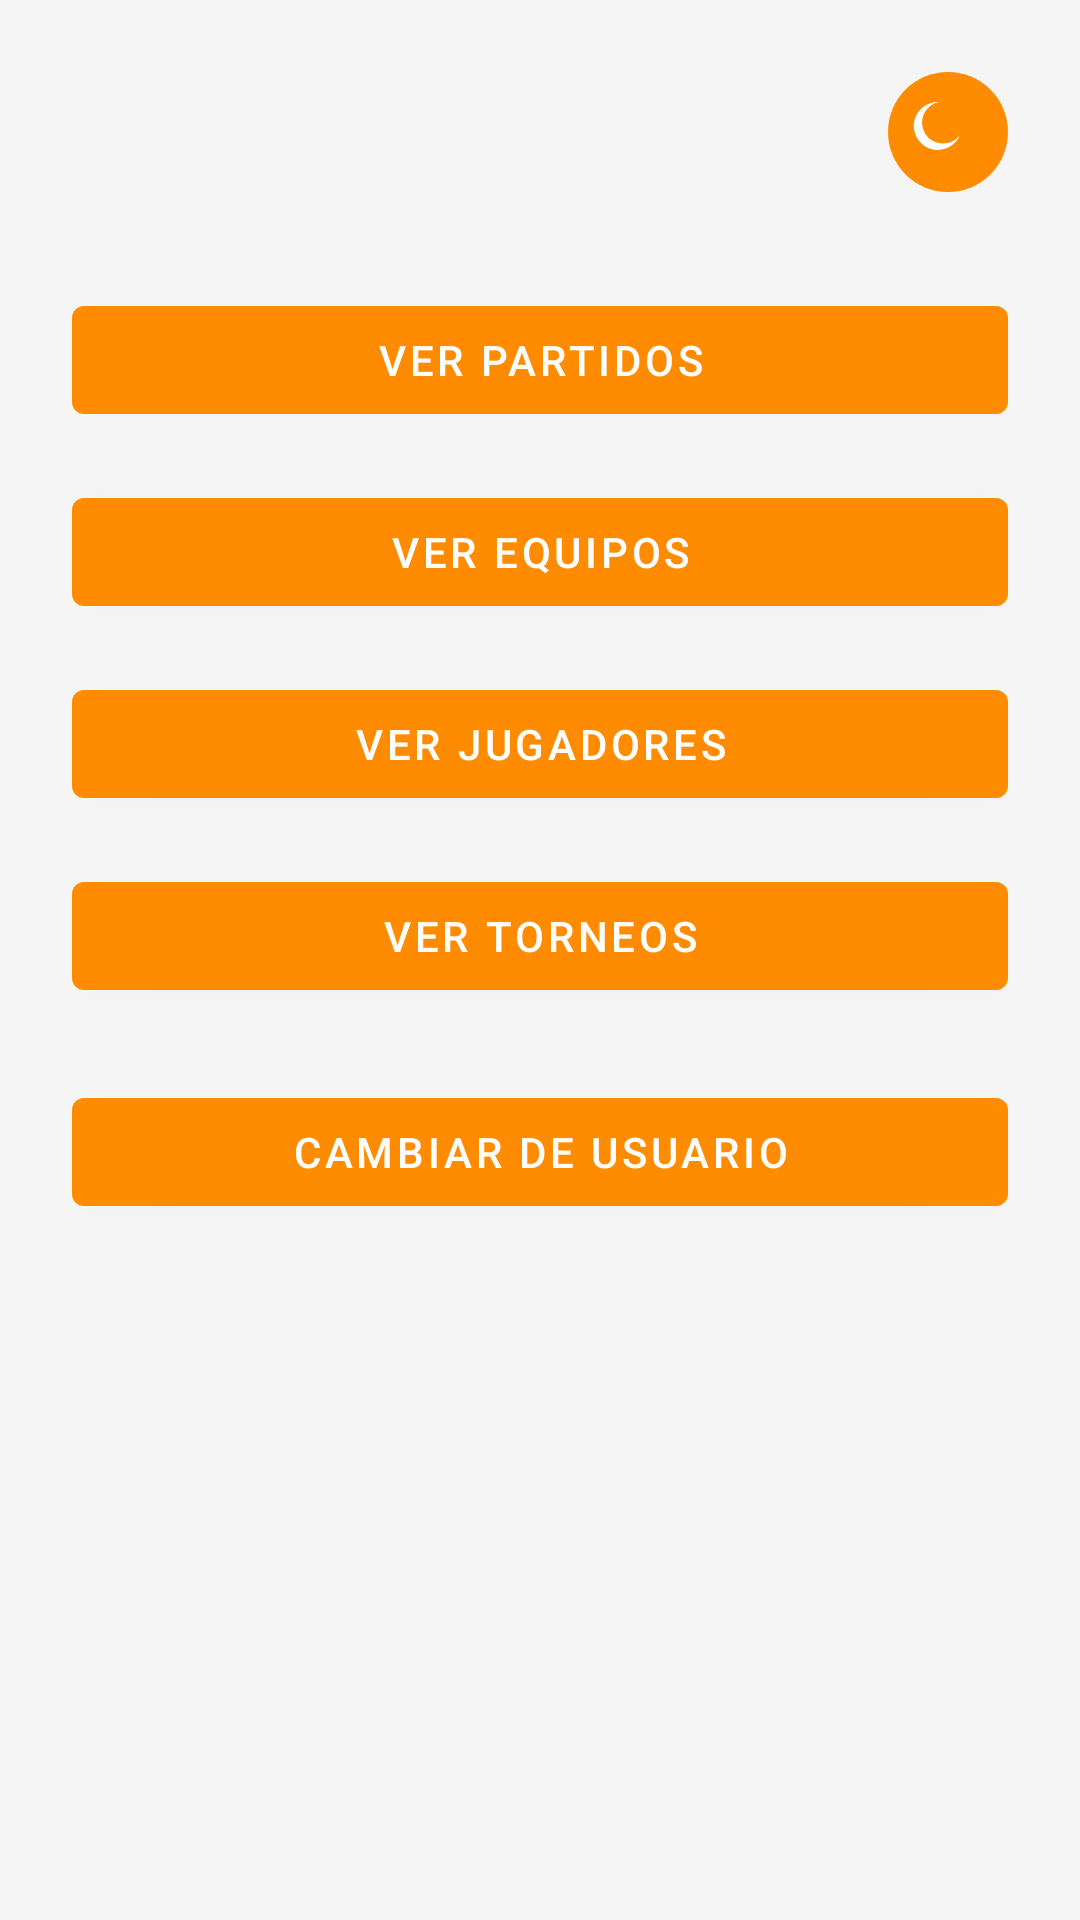

Where icons sit on this 1080×1920 app screen, as (left=x1, top=y1, right=x2, bottom=y2):
Cambiar tema: (left=888, top=72, right=1008, bottom=192)
